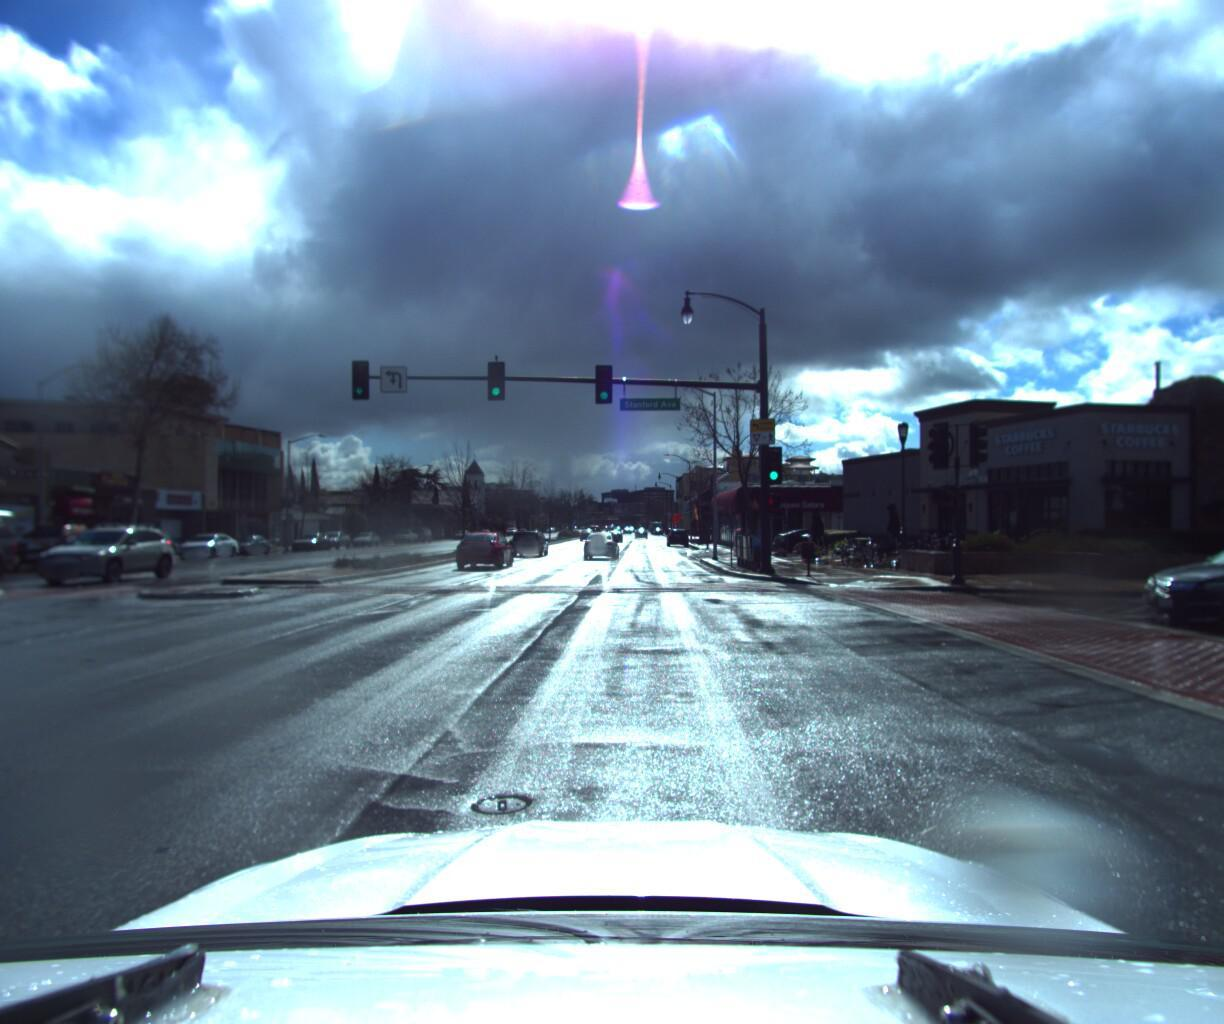bicycle: (837, 531, 893, 565), (839, 531, 894, 565), (922, 525, 950, 558)
car: (10, 521, 195, 587), (1114, 526, 1224, 634), (0, 519, 127, 577), (454, 527, 518, 567), (0, 514, 28, 602), (769, 524, 850, 552), (174, 531, 245, 562), (580, 526, 622, 557), (510, 529, 551, 557), (288, 530, 336, 551), (665, 524, 687, 543)
other_vehicle: (0, 504, 42, 590)
